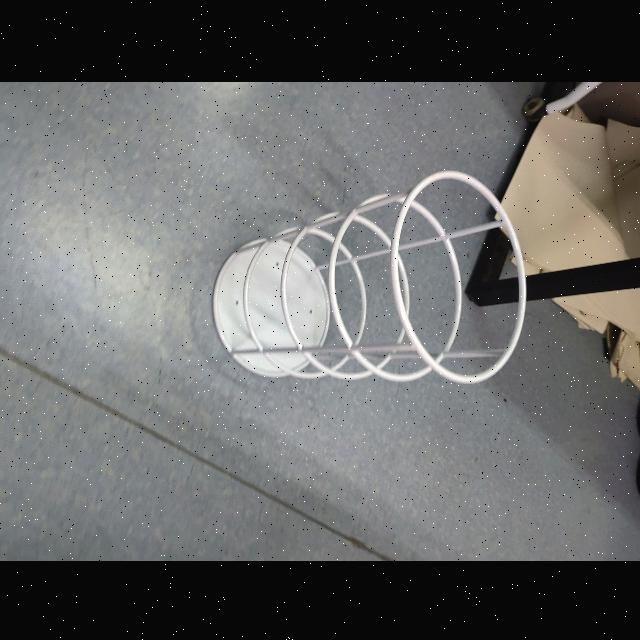S: (206, 163, 532, 389)
